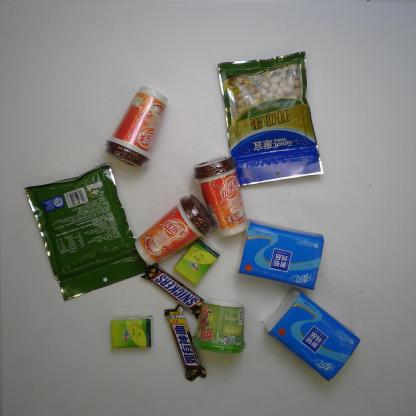Chocolate: (141, 262, 205, 319), (164, 306, 207, 382)
Dried Fruit: (23, 161, 148, 302), (218, 51, 323, 187)
Instant Drink: (134, 195, 214, 265), (104, 86, 168, 170), (193, 155, 248, 237), (190, 300, 247, 354)
Tissue: (264, 286, 360, 382), (236, 218, 324, 290), (174, 237, 219, 284), (112, 315, 152, 349)
